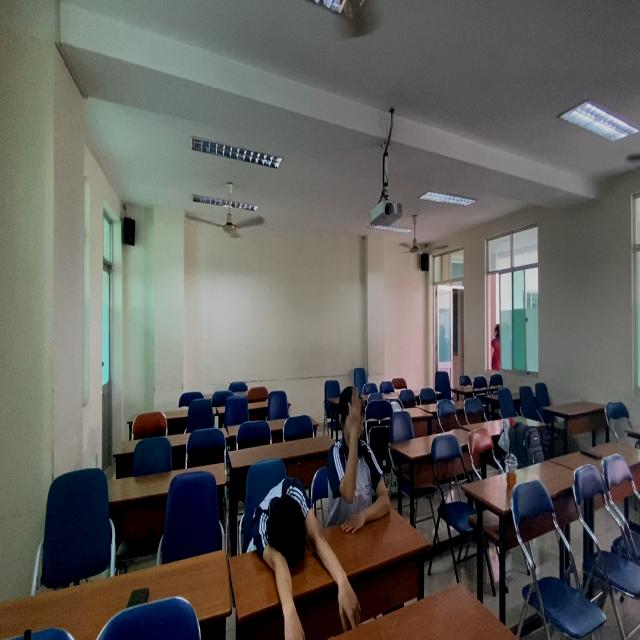raise_hand: (324, 382, 395, 527)
sleep: (236, 468, 338, 586)
